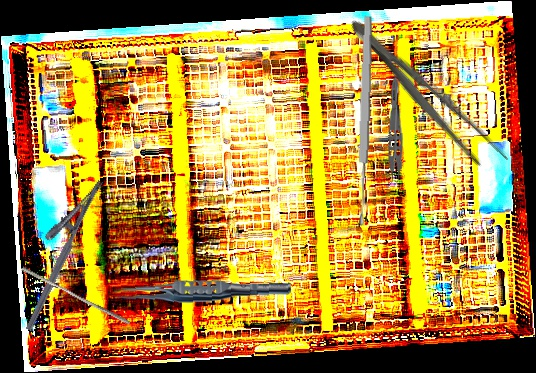Dressing Forceps: (339, 10, 513, 180)
Needle Holder: (4, 169, 105, 332)
Pusher: (19, 266, 133, 325)
Surgical Spoon: (354, 15, 375, 227)
Tissue Forceps: (113, 274, 292, 308), (381, 77, 405, 190)
